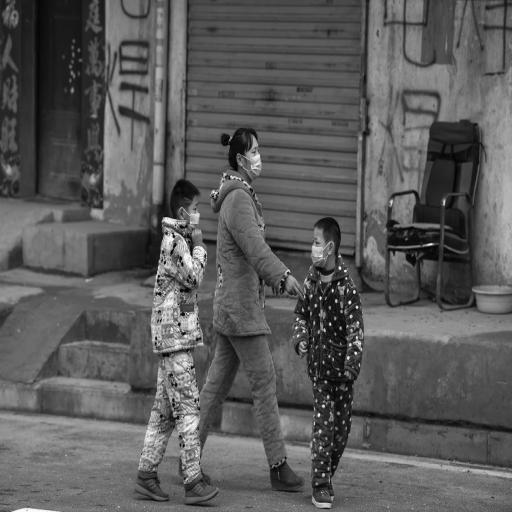mask: (223, 123, 264, 185), (167, 174, 205, 237), (307, 214, 343, 273)
